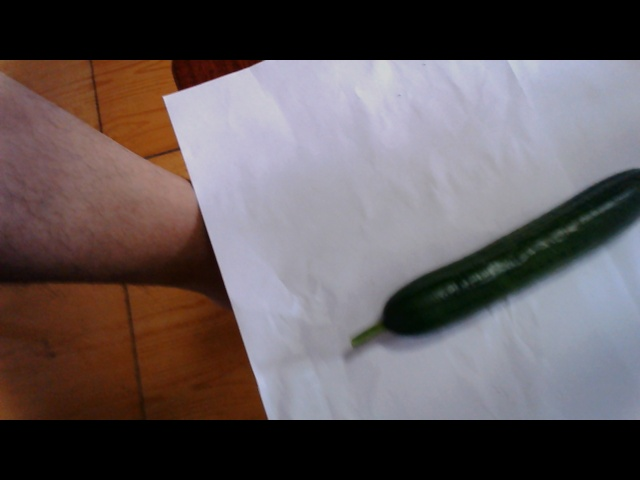cucumber: (357, 170, 636, 356)
